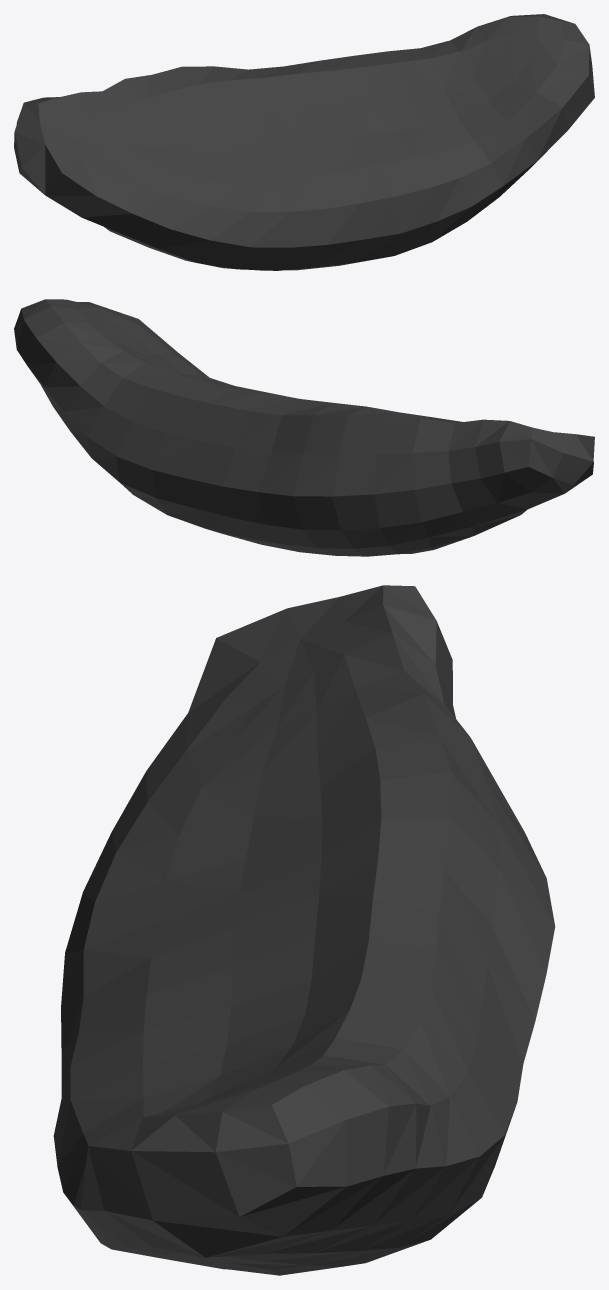
File: HL_Navicular_R.glb
The picture shows the model from 3 angles, top to bottom: view 1: azimuth 30°, elevation 25°; view 2: azimuth 150°, elevation 25°; view 3: azimuth 270°, elevation 25°; orthographic projection. The views are drawn at different scales.
Visible parts, largest first — view 1: HL_Navicular_R; view 2: HL_Navicular_R; view 3: HL_Navicular_R.
Part boxes in pixels (x1=…): HL_Navicular_R: x1=14, y1=14, x2=594, y2=270; HL_Navicular_R: x1=14, y1=299, x2=594, y2=556; HL_Navicular_R: x1=53, y1=585, x2=555, y2=1275.
Size of the model in its own units: 0.0575 by 0.0182 by 0.0224.
1 material, 1 textured.
